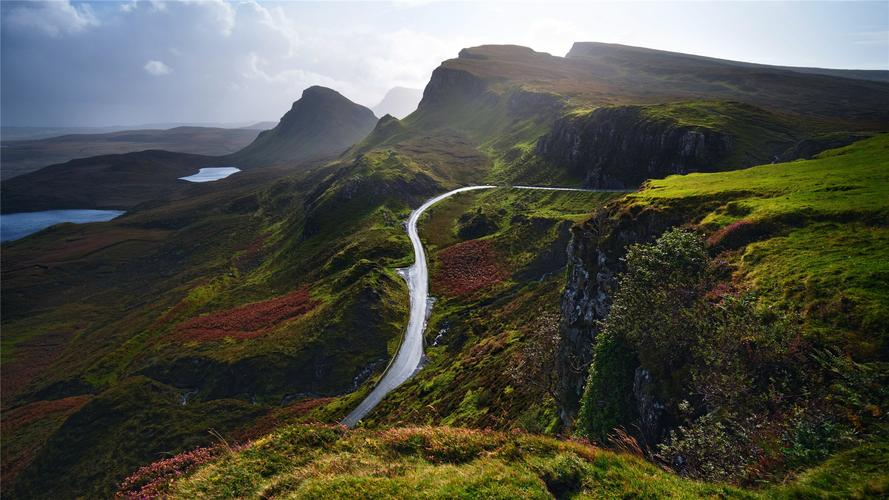mountain: (532, 189, 865, 444)
